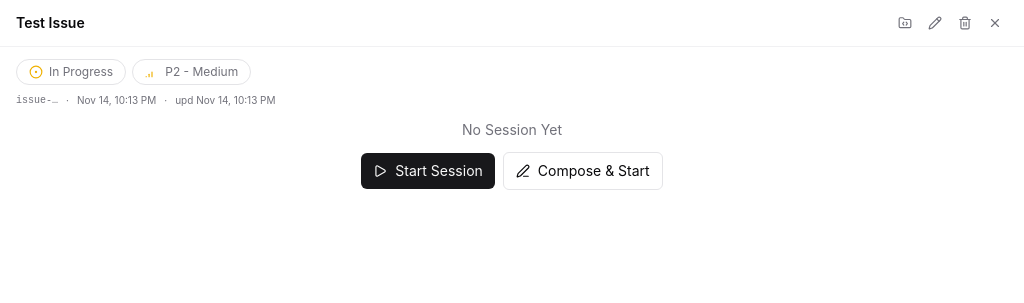
Scenario: IssueDetailView — SessionPanel integration › exits compose mode when Cancel is clicked
Click the button with aria-label "compose and start". click: (583, 171)
box: [503, 152, 663, 190]
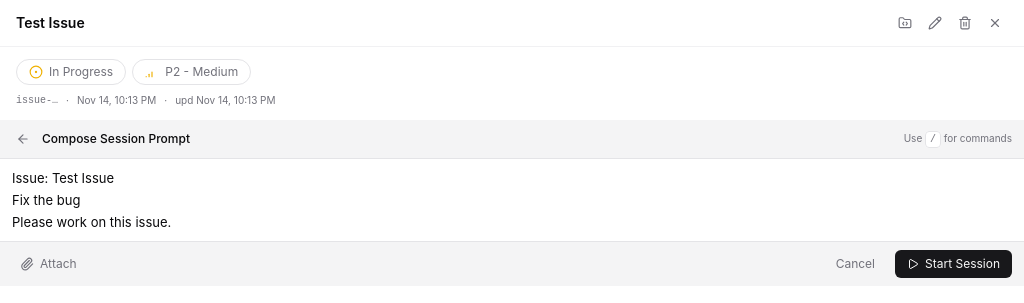
Check: the text "Compose Session Prompt" is shown, box [42, 131, 190, 147]
Click the button "Cancel". click: (855, 264)
box: [824, 250, 887, 278]
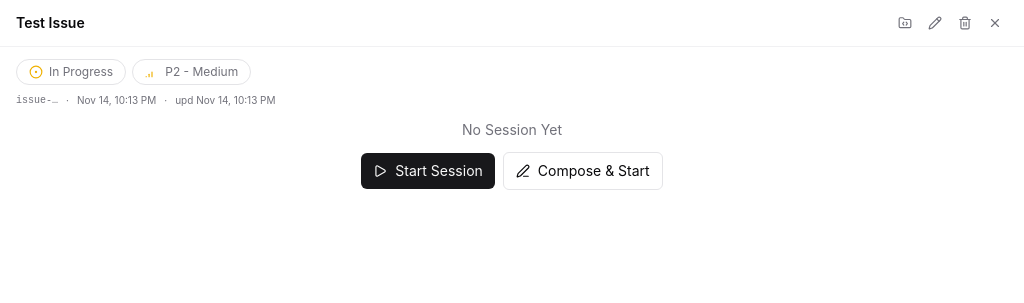
Check: the text "No Session Yet" is shown, box [462, 120, 562, 140]
